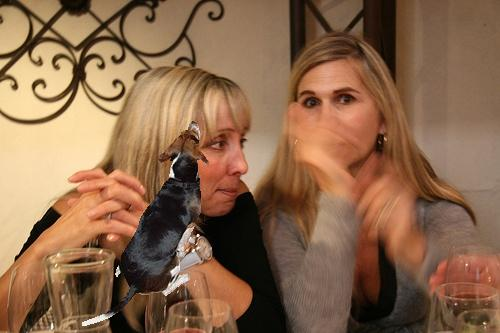tampered: (82, 122, 209, 326)
